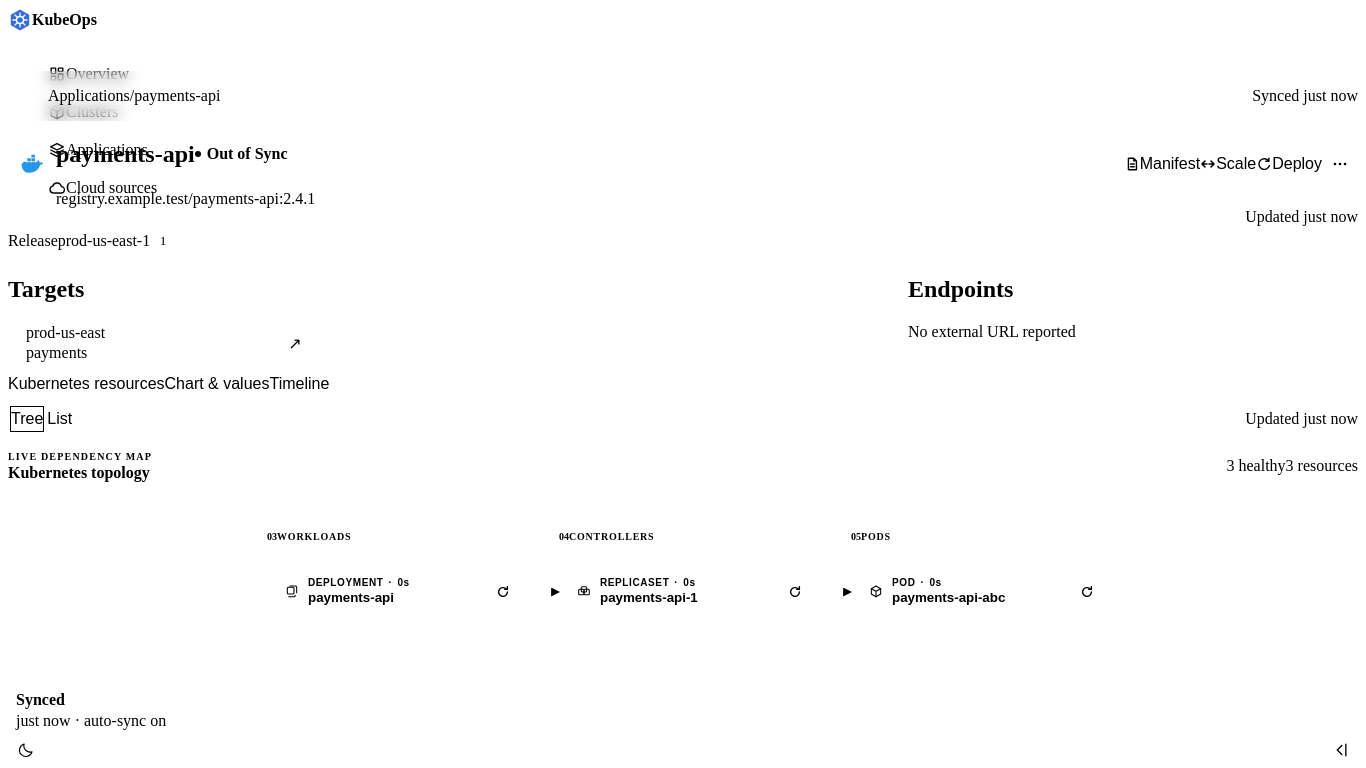
Scenario: application detail › lists Kubernetes resources in ownership order and shows their detail
(page scrolled)
Click the tab "Kubernetes resources".
click(86, 384)  # box top-left (8, 364), bottom-right (164, 404)
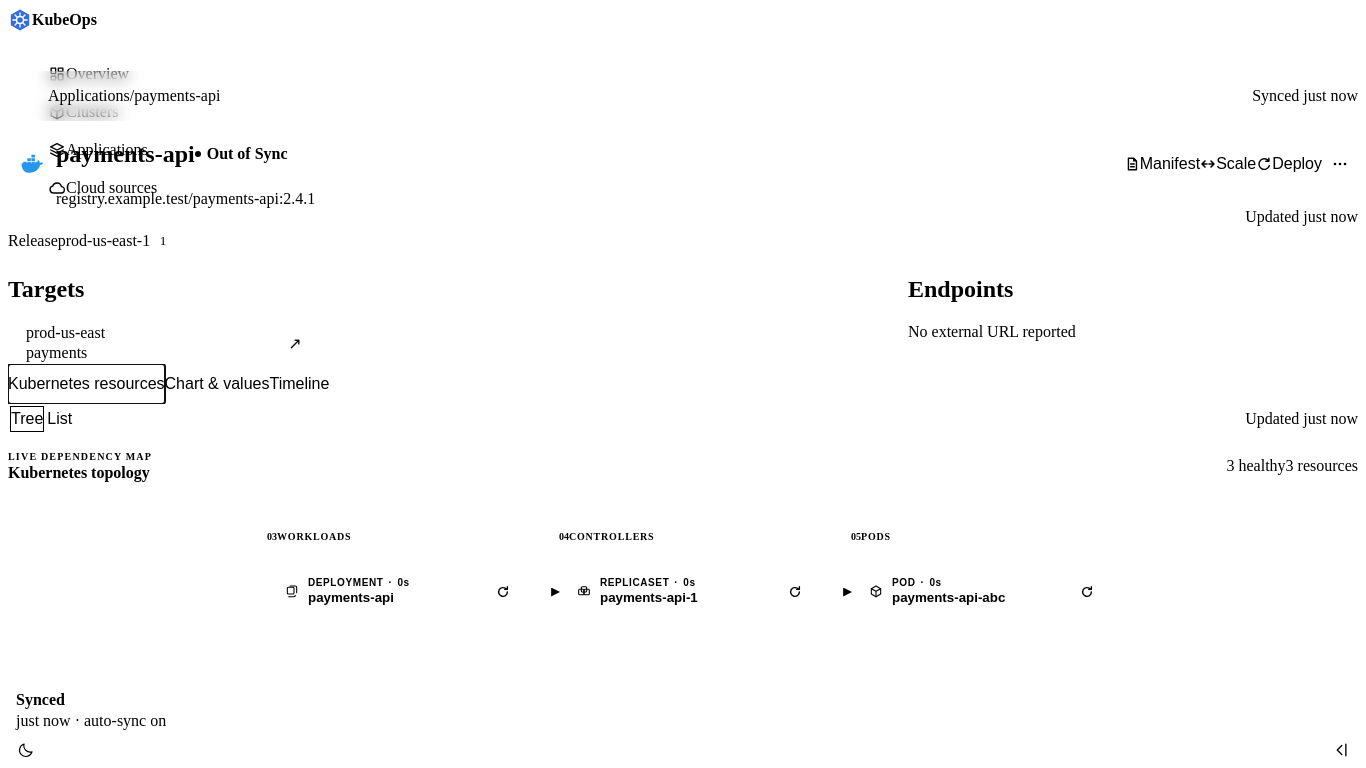
Click the button with aria-label "Actions for ReplicaSet payments-api-1".
click(683, 592)  # box top-left (559, 560), bottom-right (807, 624)
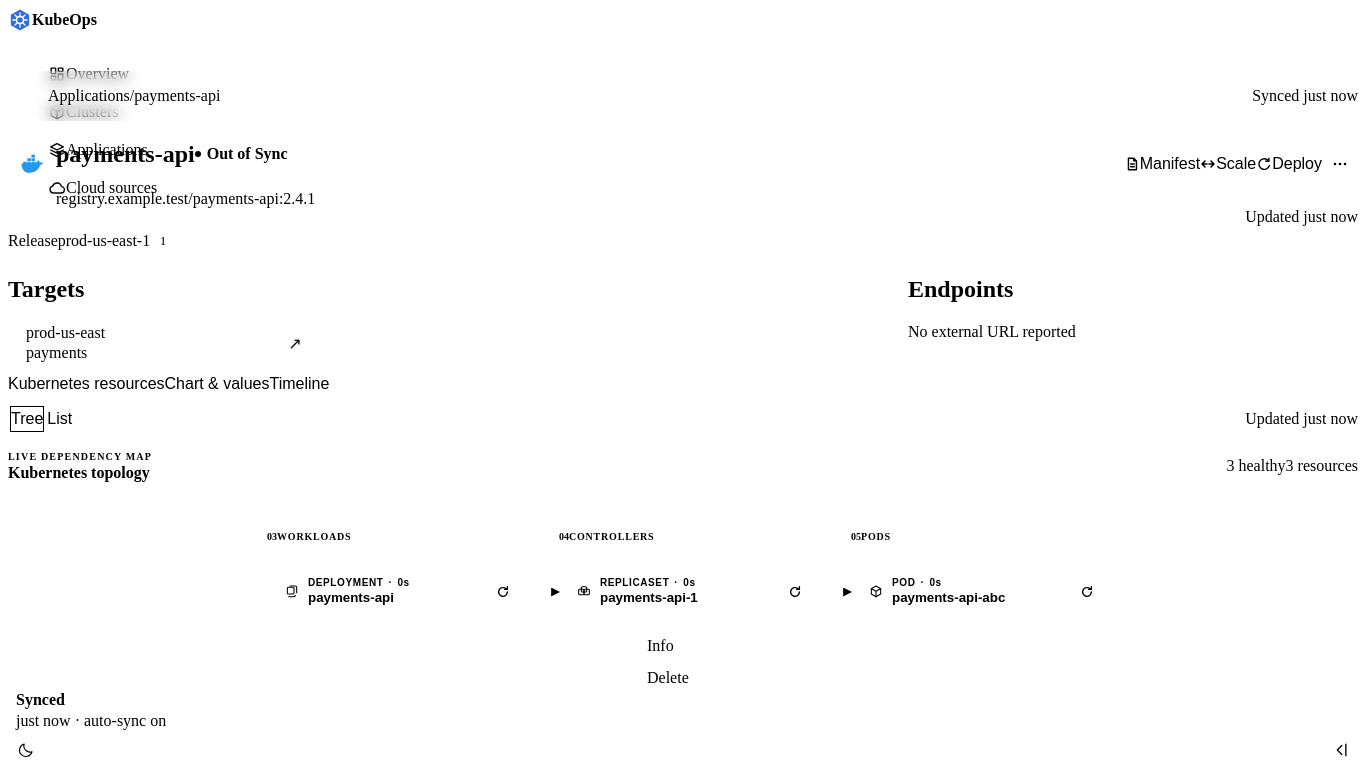
Click the menu item "Info".
click(660, 646)  # box top-left (647, 637), bottom-right (674, 654)
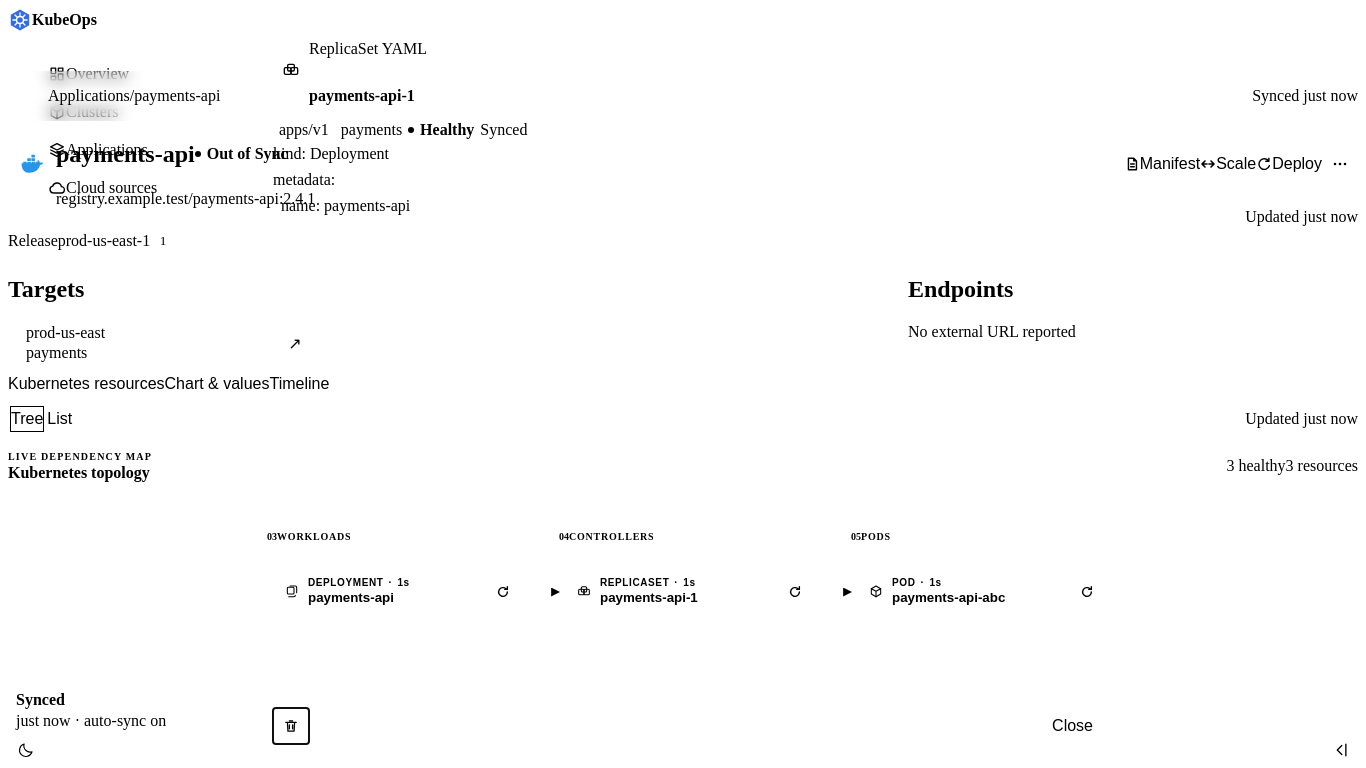
Check: the text "apps/v1" is shown, box top-left (279, 120), bottom-right (329, 138)
Check: the text named "YAML for payments-api-1" shows "kind: Deployment", box top-left (273, 144), bottom-right (410, 214)
